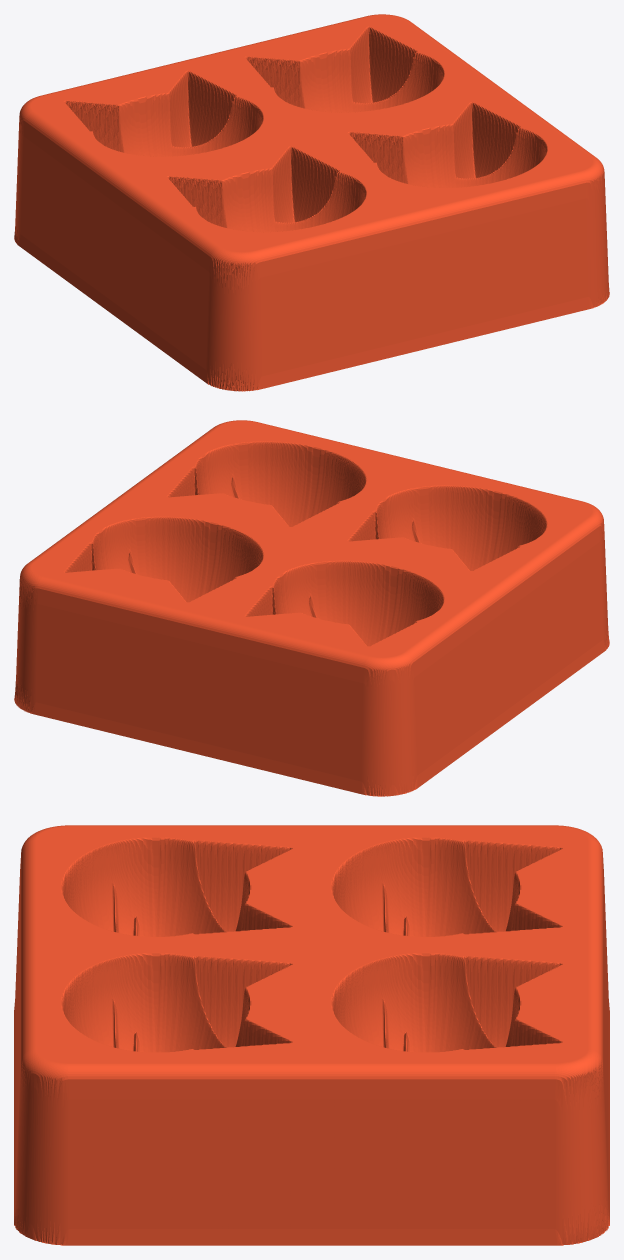
The model's file is mold.glb.
The picture shows the model from 3 angles, top to bottom: view 1: azimuth 30°, elevation 25°; view 2: azimuth 150°, elevation 25°; view 3: azimuth 270°, elevation 25°; orthographic projection. The views are drawn at different scales.
Parts seen in each view (by area): view 1: geometry_0; view 2: geometry_0; view 3: geometry_0.
Part boxes in pixels (x1,y1,x2,y2): geometry_0: [14, 14, 609, 391]; geometry_0: [14, 420, 609, 796]; geometry_0: [14, 825, 609, 1245].
Bounding box in the file's own units: 0.0992 × 0.0314 × 0.098.
